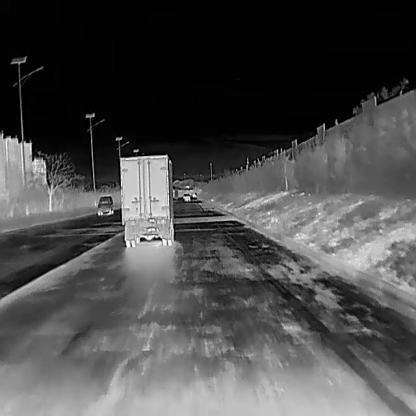car: (119, 153, 177, 247), (96, 195, 113, 215), (183, 193, 190, 201), (191, 191, 197, 197)
